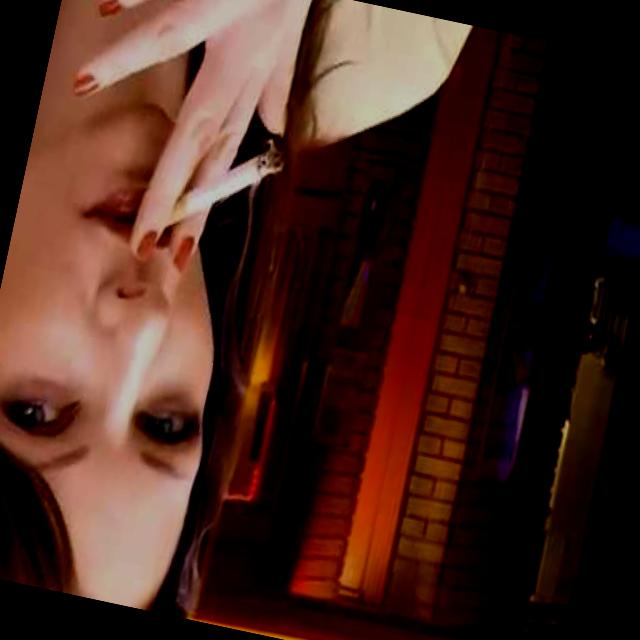cigarette: (147, 102, 302, 263)
